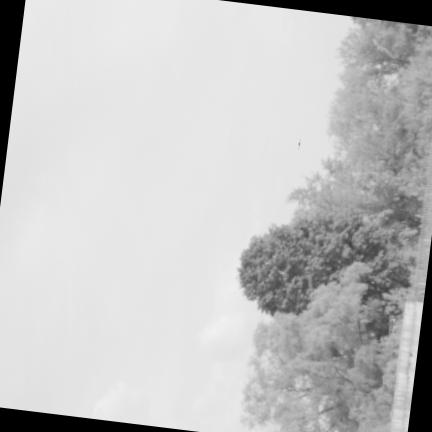Shahed: (297, 137, 301, 150)
